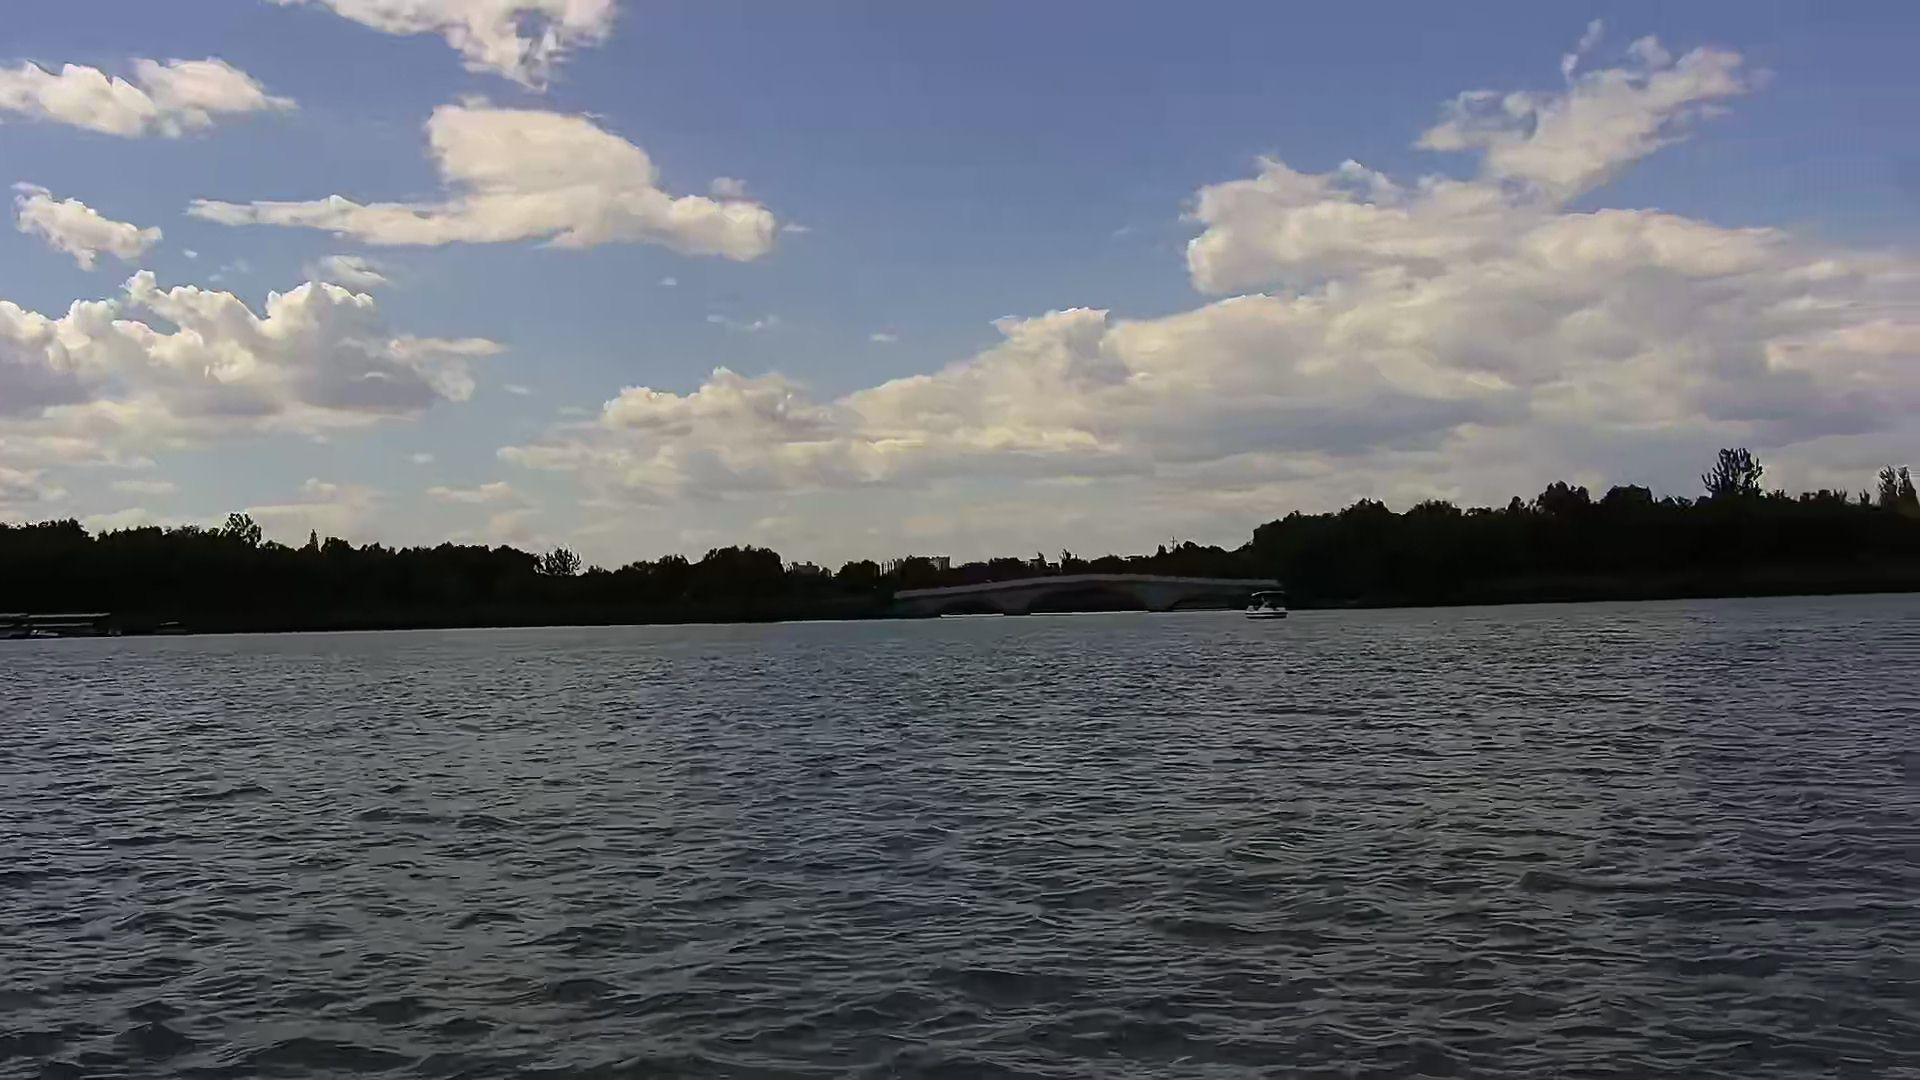boat: (1240, 587, 1287, 620)
bridge: (897, 568, 1280, 618), (1, 611, 115, 636)
